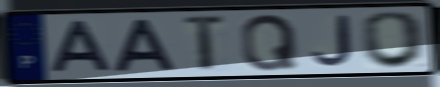A: (111, 18, 179, 74), (49, 19, 115, 75)
J: (310, 13, 355, 69)
O: (361, 9, 429, 70)
Q: (240, 12, 300, 73)
T: (182, 13, 229, 75)
